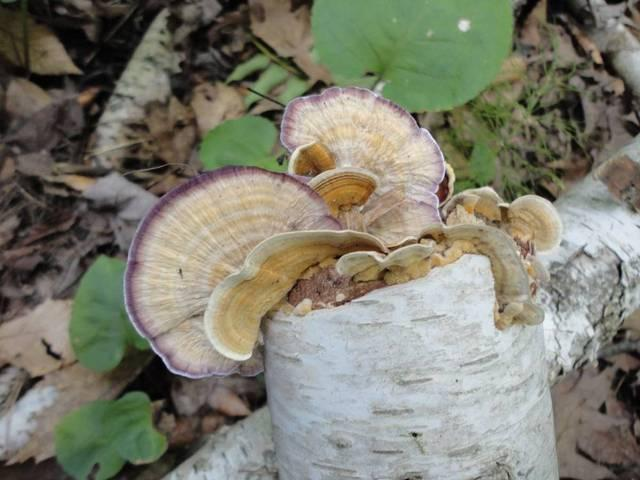Non-edible Mushroom: (122, 84, 564, 478), (278, 84, 447, 244)
